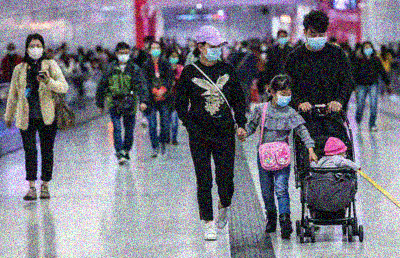with_mask: (306, 31, 328, 51), (204, 45, 223, 63), (275, 91, 293, 108), (26, 43, 43, 60), (116, 50, 131, 64), (149, 46, 163, 58), (168, 54, 179, 66), (363, 45, 374, 55), (278, 34, 288, 45), (260, 43, 268, 52), (240, 45, 248, 53), (7, 49, 14, 56)
